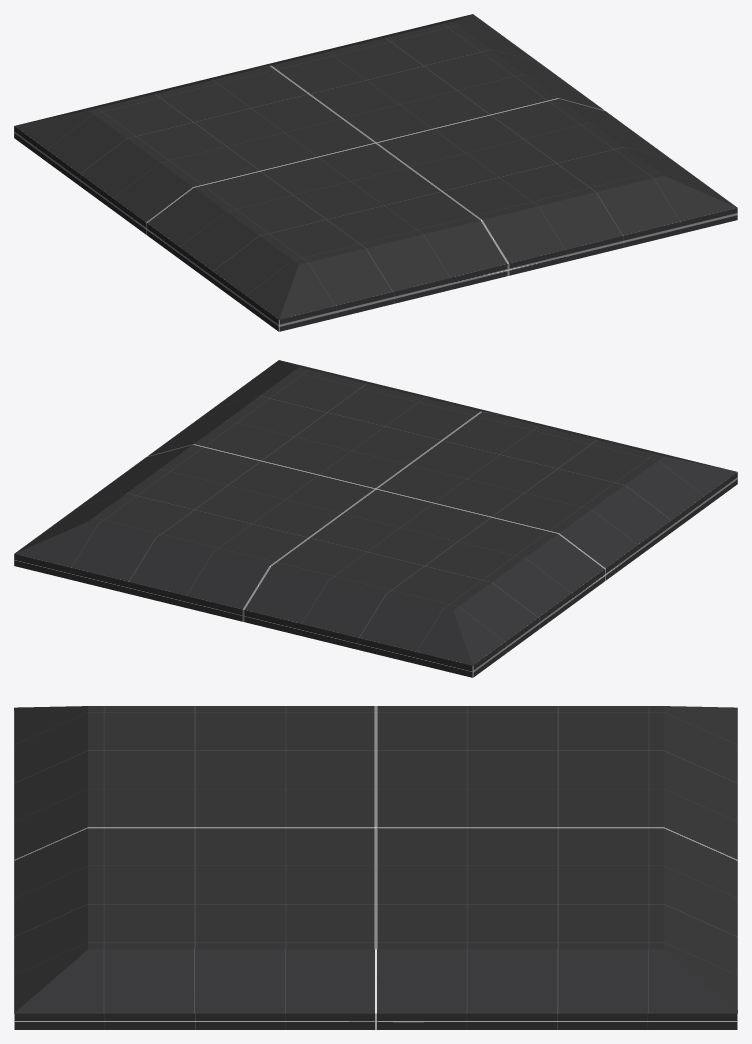
Rendered from pad.glb.
3 views of the same model, one above another, from view 1: azimuth 30°, elevation 25°; view 2: azimuth 150°, elevation 25°; view 3: azimuth 270°, elevation 25° (orthographic). The views are drawn at different scales.
Visible parts, largest first — view 1: pad-col; view 2: pad-col; view 3: pad-col.
Boxes of the visible parts, x1,y1,x2,y2 form: pad-col: [14, 14, 737, 331]; pad-col: [14, 360, 737, 677]; pad-col: [14, 706, 737, 1029].
Size of the model in its own units: 2 by 0.15 by 2.
1 material, 1 textured.
